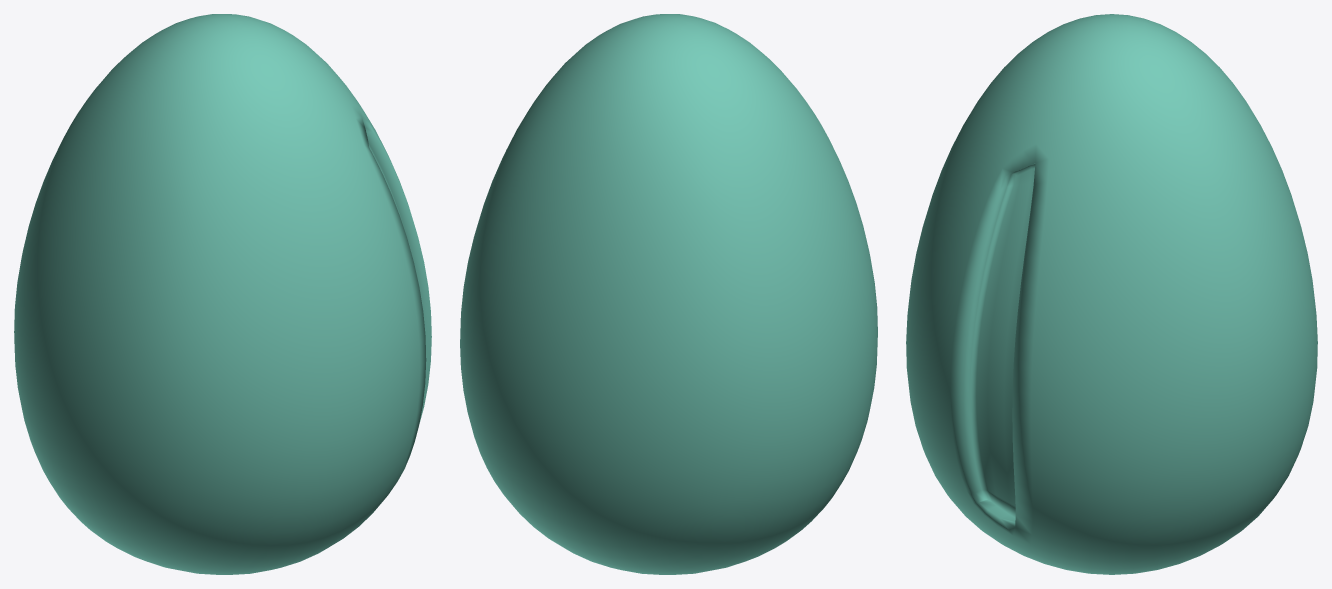
File: Slime Egg  1.fbx
3 views of the same model, side by side, from view 1: azimuth 30°, elevation 25°; view 2: azimuth 150°, elevation 25°; view 3: azimuth 270°, elevation 25° (orthographic).
Parts seen in each view (by area): view 1: Slime Egg 1.001; view 2: Slime Egg 1.001; view 3: Slime Egg 1.001.
Boxes of the visible parts, x1,y1,x2,y2 form: Slime Egg 1.001: [14, 14, 431, 574]; Slime Egg 1.001: [460, 14, 877, 574]; Slime Egg 1.001: [906, 14, 1317, 574].
Size of the model in its own units: 256 by 362 by 256.
